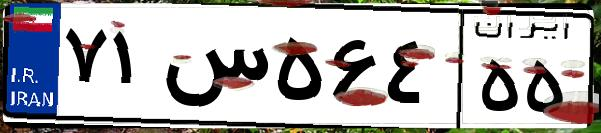1: (110, 28, 158, 98)
4: (385, 28, 445, 110)
5: (270, 28, 330, 110), (475, 38, 525, 113), (525, 38, 570, 115)
6: (330, 28, 385, 110)
7: (57, 26, 110, 100)
س: (158, 20, 270, 120)
